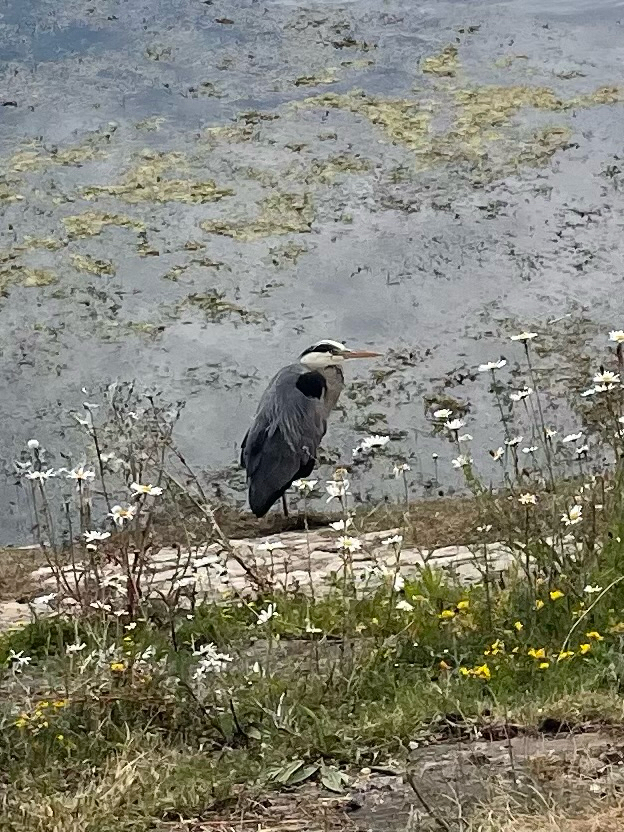heron: (238, 337, 385, 534)
